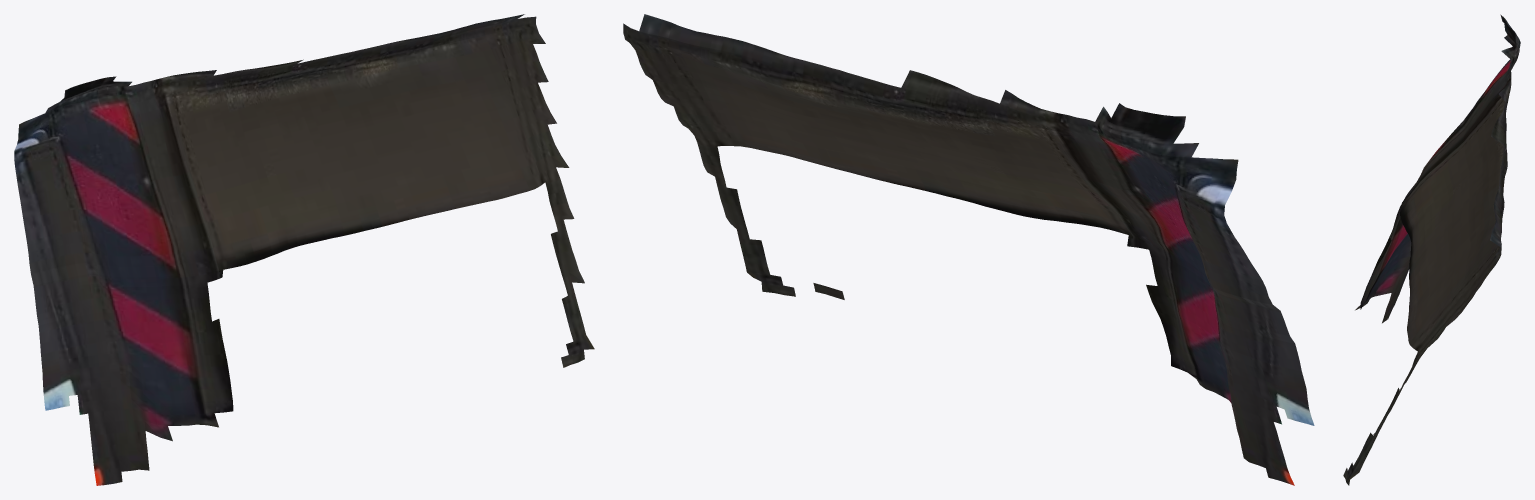
The model's file is observed-surface.glb.
The picture shows the model from 3 angles, left to right: view 1: azimuth 30°, elevation 25°; view 2: azimuth 150°, elevation 25°; view 3: azimuth 270°, elevation 25°; orthographic projection. The views are drawn at different scales.
Parts seen in each view (by area): view 1: geometry_0; view 2: geometry_0; view 3: geometry_0.
Part boxes in pixels (<box>): geometry_0: <box>14,14,594,485</box>; geometry_0: <box>623,14,1314,485</box>; geometry_0: <box>1343,14,1520,485</box>.
Size of the model in its own units: 0.62 by 0.3816 by 0.1986.
1 material, 1 textured.
